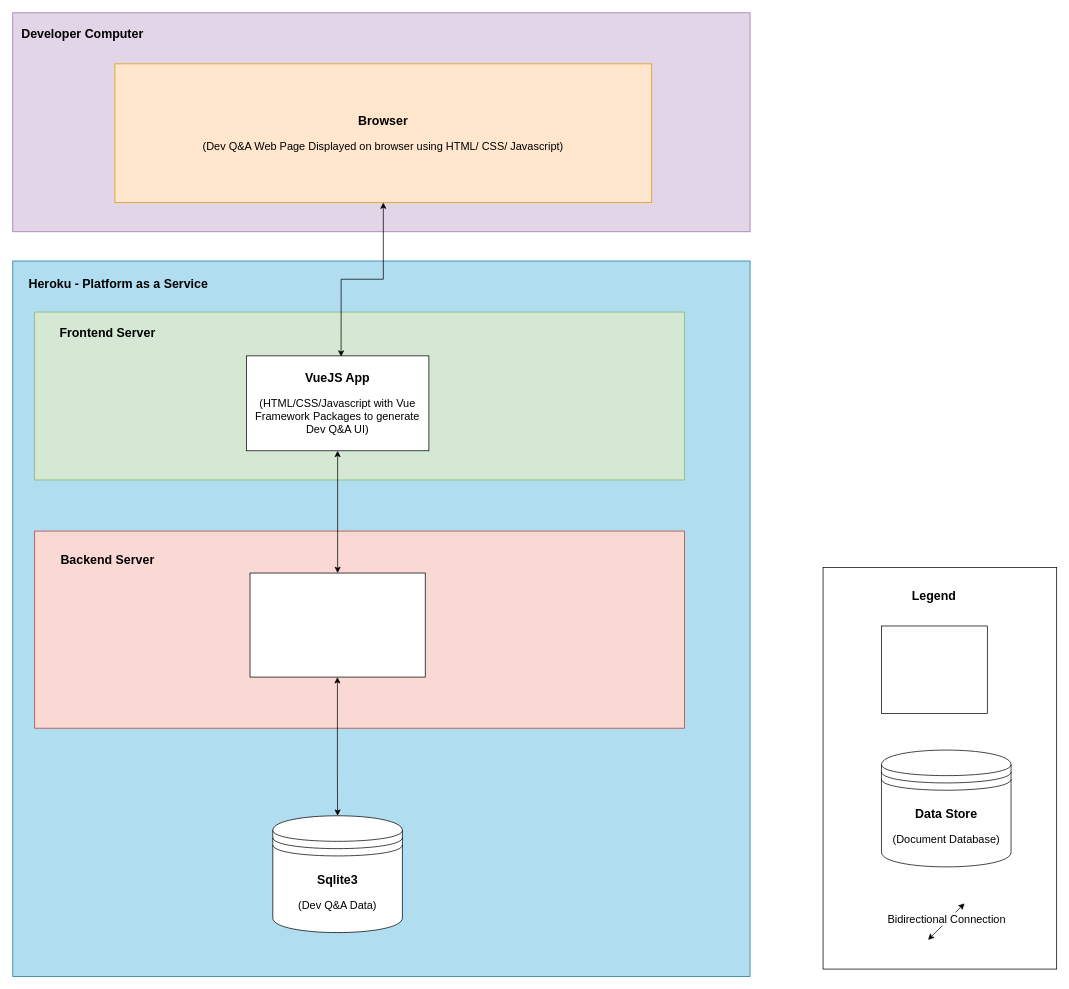
The diagram is 1069 pixels wide and 989 high, and some of its shapes have lost their labels. The box of each missing label's shape, as (x1, y1, x2, y2) in pixels:
Component: (881, 625, 987, 714)
Django (Dev Q&A API & ORM): (249, 572, 425, 677)
